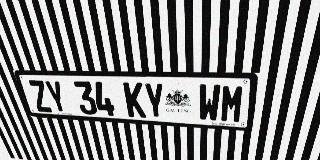3: (73, 81, 98, 115)
4: (91, 81, 116, 116)
K: (123, 82, 146, 118)
M: (220, 84, 246, 123)
W: (198, 84, 221, 122)
Y: (43, 80, 69, 113), (143, 83, 166, 119)
Z: (27, 80, 53, 112)
